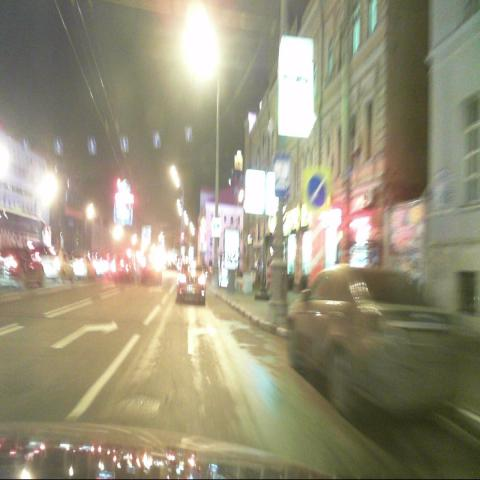4_2_2: (304, 165, 330, 211)
7_2: (274, 150, 291, 199)
